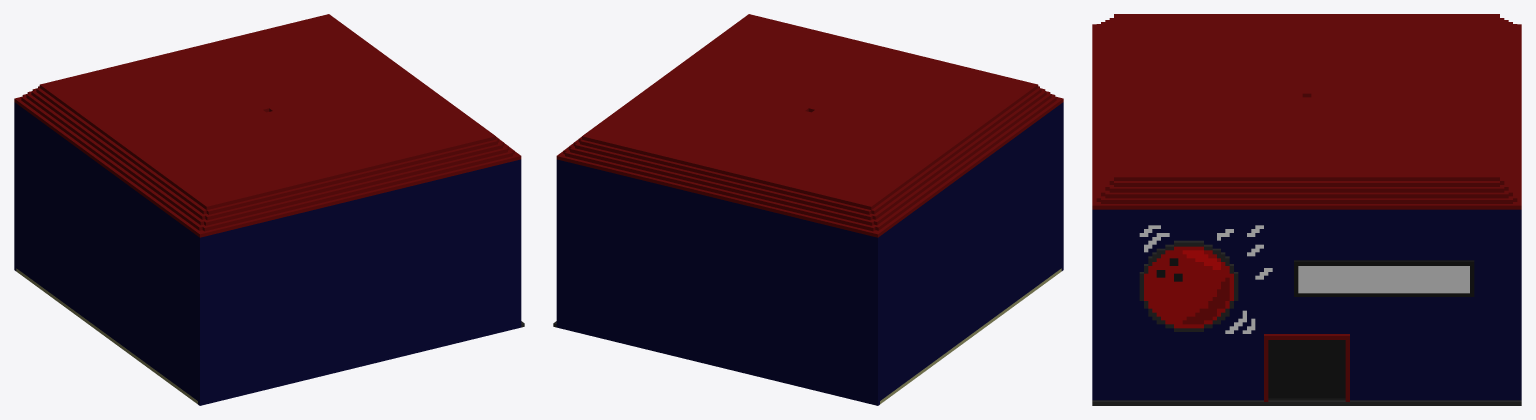
File: Bowling no details filled.obj
3 views of the same model, side by side, from view 1: azimuth 30°, elevation 25°; view 2: azimuth 150°, elevation 25°; view 3: azimuth 270°, elevation 25° (orthographic). The views are drawn at different scales.
Visible parts, largest first — view 1: Bowling no details filled; view 2: Bowling no details filled; view 3: Bowling no details filled.
Boxes of the visible parts, box(x1,y1,x2,y2) form: Bowling no details filled: box(14, 14, 524, 405); Bowling no details filled: box(553, 14, 1063, 405); Bowling no details filled: box(1092, 14, 1521, 405).
Size of the model in its own units: 101 by 56 by 100.
1 material, 1 textured.
